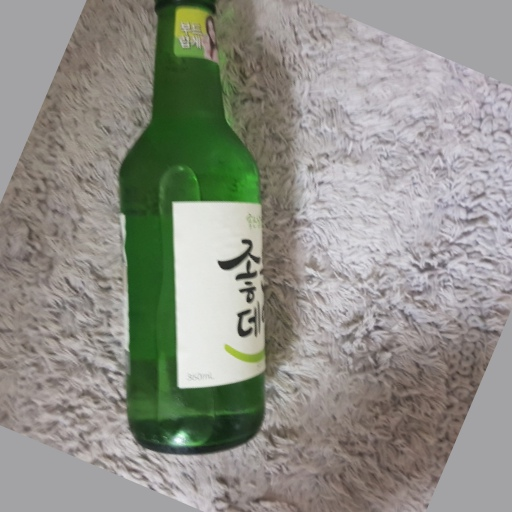Glass_0: (114, 1, 270, 462)
